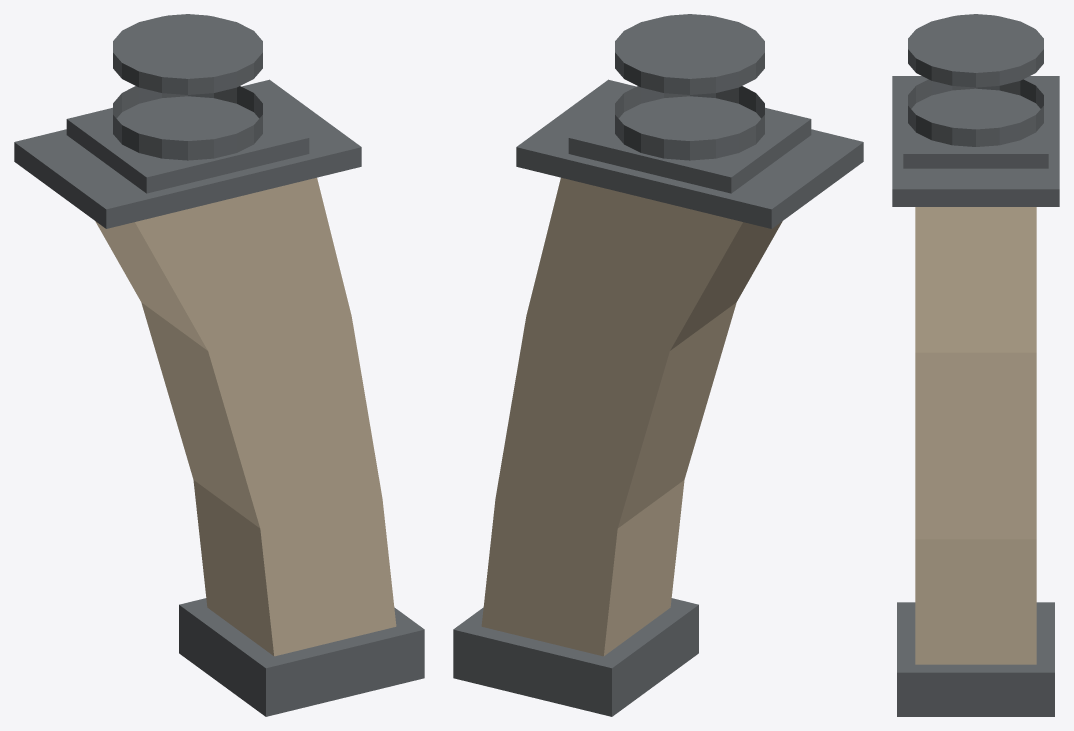
Rendered from LightGreyMetalMechLargeSkiLift1.fbx.
3 views of the same model, side by side, from view 1: azimuth 30°, elevation 25°; view 2: azimuth 150°, elevation 25°; view 3: azimuth 270°, elevation 25° (orthographic). The views are drawn at different scales.
Visible parts, largest first — view 1: LightGreyMetalMechLargeSKiLift1; view 2: LightGreyMetalMechLargeSKiLift1; view 3: LightGreyMetalMechLargeSKiLift1.
Part boxes in pixels (x1,y1,x2,y2): LightGreyMetalMechLargeSKiLift1: (14,14,424,716); LightGreyMetalMechLargeSKiLift1: (453,14,863,716); LightGreyMetalMechLargeSKiLift1: (892,14,1059,716).
Size of the model in its own units: 290 by 572 by 144.
